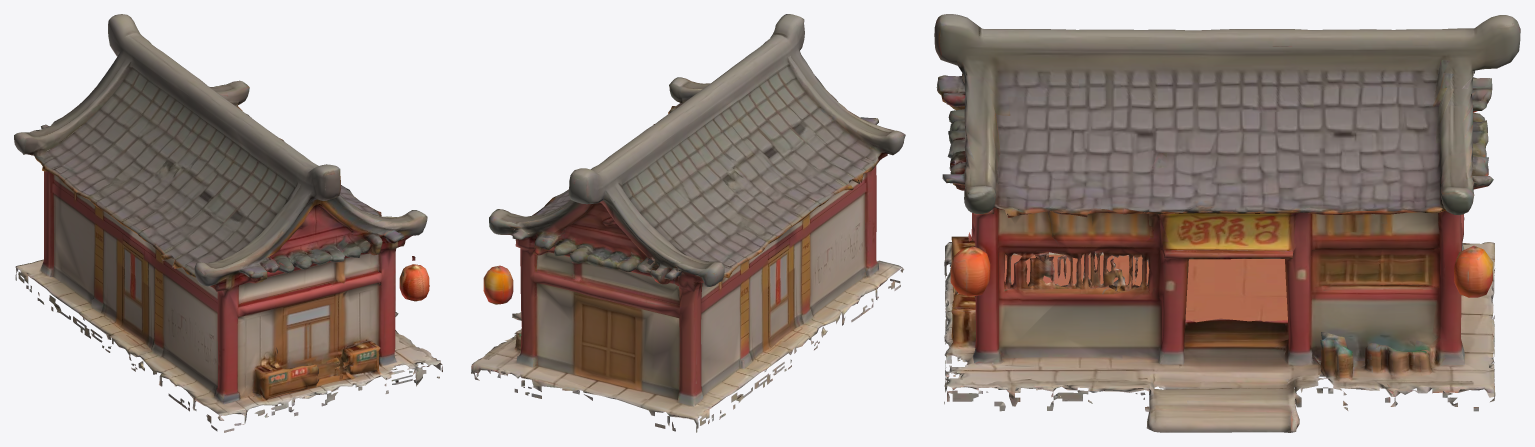
The model's file is bq_teashop.mid.glb.
3 views of the same model, side by side, from view 1: azimuth 30°, elevation 25°; view 2: azimuth 150°, elevation 25°; view 3: azimuth 270°, elevation 25° (orthographic). The views are drawn at different scales.
Bounding box in the file's own units: 1.42 × 1.2 × 2.
Materials: 1 (1 with a texture image).
